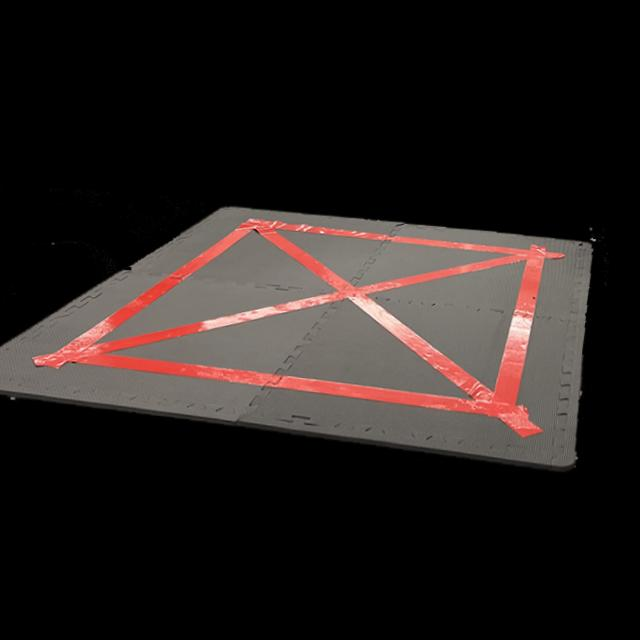landingPads: (0, 189, 615, 459)
